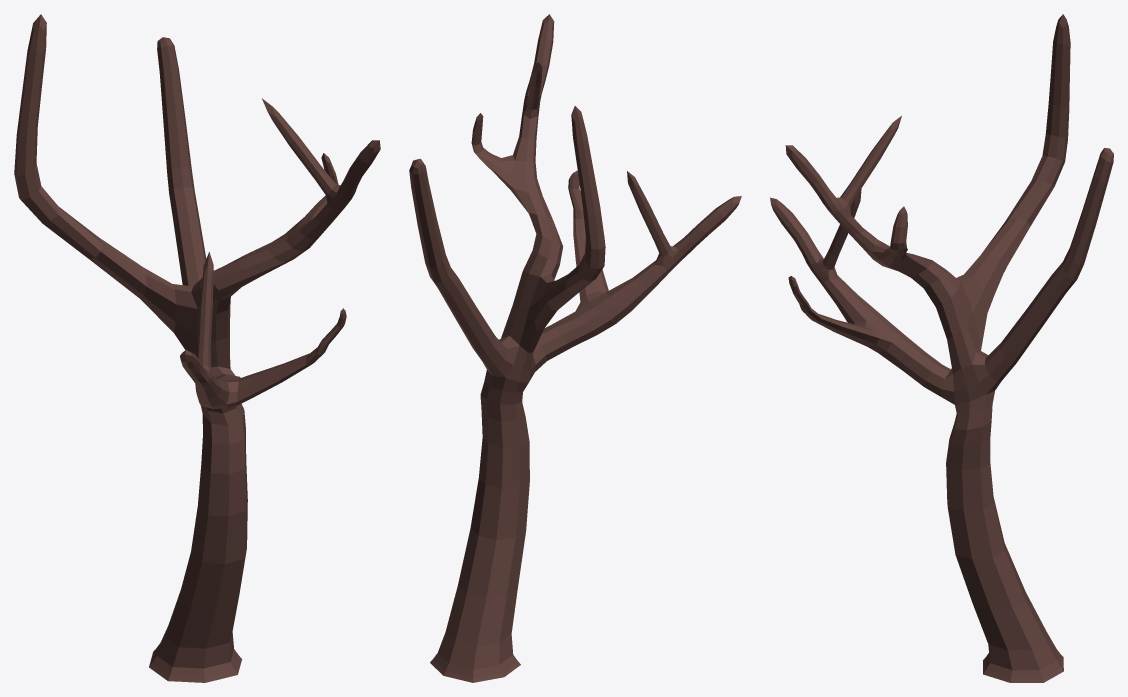
The model's file is CommonTree_Dead_5-transformed.glb.
The picture shows the model from 3 angles, left to right: view 1: azimuth 30°, elevation 25°; view 2: azimuth 150°, elevation 25°; view 3: azimuth 270°, elevation 25°; orthographic projection. The views are drawn at different scales.
Parts seen in each view (by area): view 1: CommonTree_Dead_5; view 2: CommonTree_Dead_5; view 3: CommonTree_Dead_5.
Part boxes in pixels (x1,y1,x2,y2): CommonTree_Dead_5: (14,14,380,682); CommonTree_Dead_5: (409,14,741,682); CommonTree_Dead_5: (770,14,1113,682).
Bounding box in the file's own units: 0.8444 × 2.3 × 1.2.
